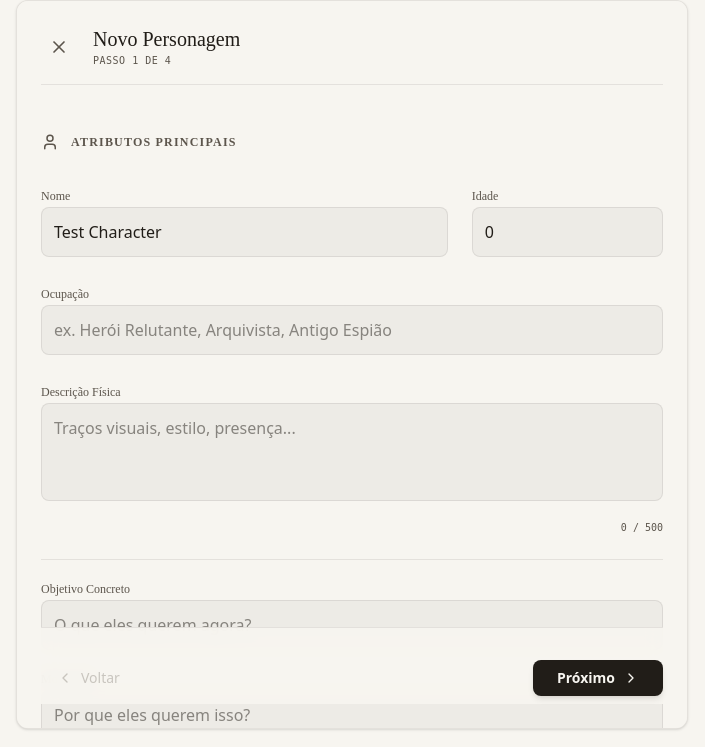
it: CharacterWizard › should navigate through 4 steps
expect the heading "Atributos Principais" is shown: met, box [71, 134, 237, 150]
# Go to Step 2
Click the button "Próximo": (598, 678) [533, 660, 663, 696]
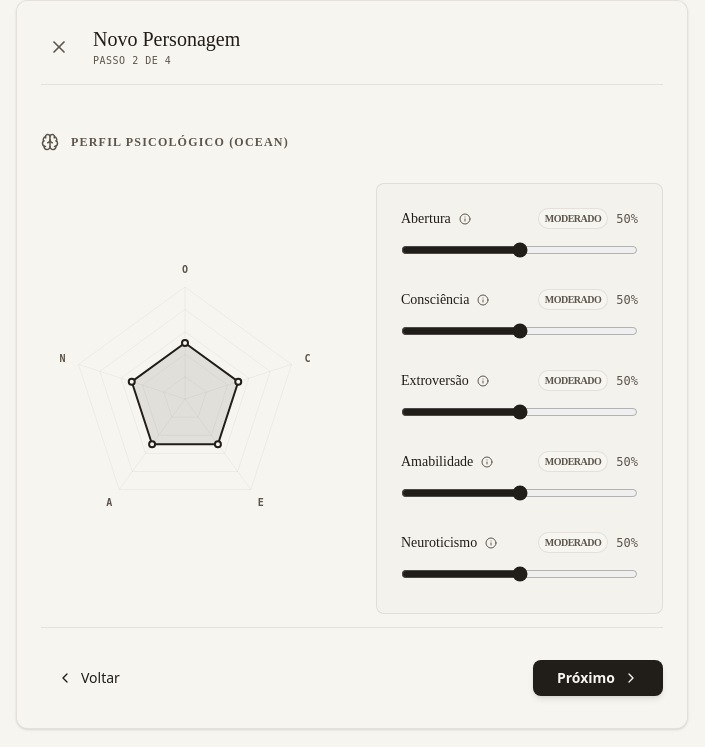
expect the heading "Perfil Psicológico (OCEAN)" is shown: met, box [71, 134, 289, 150]
# Go to Step 3
Click the button "Próximo": (598, 678) [533, 660, 663, 696]
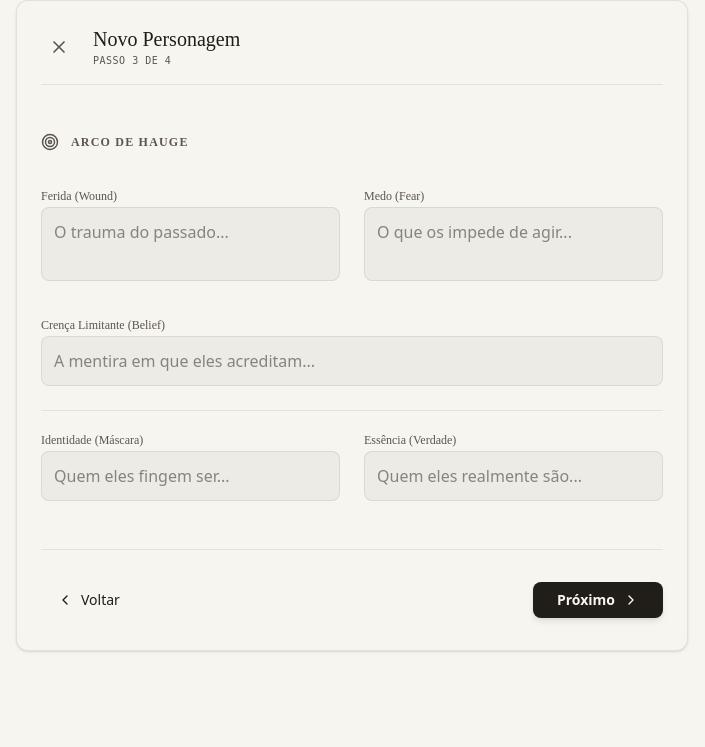
expect the heading "Arco de Hauge" is shown: met, box [71, 134, 189, 150]
# Go to Step 4
Click the button "Próximo": (598, 600) [533, 582, 663, 618]
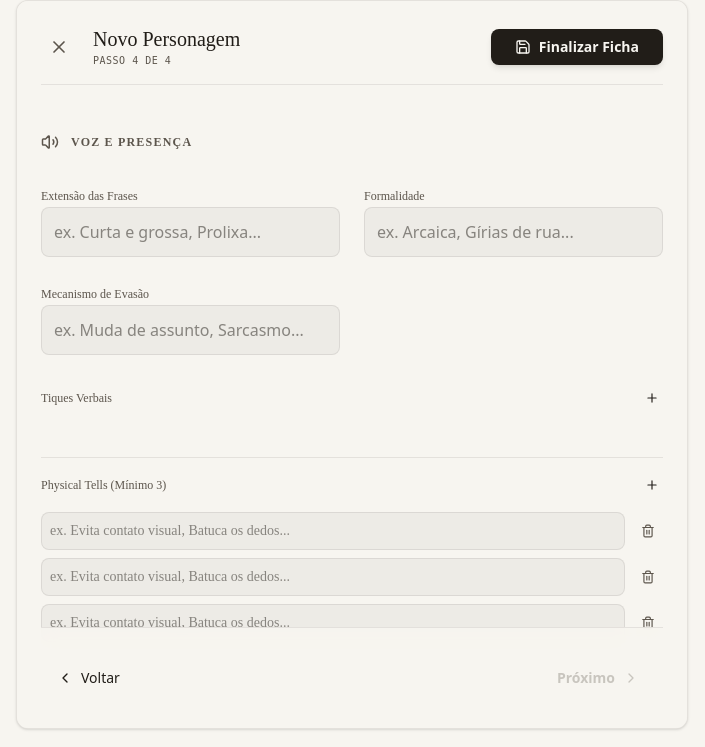
expect the heading "Voz e Presença" is shown: met, box [71, 134, 192, 150]
# Go back to Step 3
Click the button "Voltar": (88, 678) [41, 660, 136, 696]
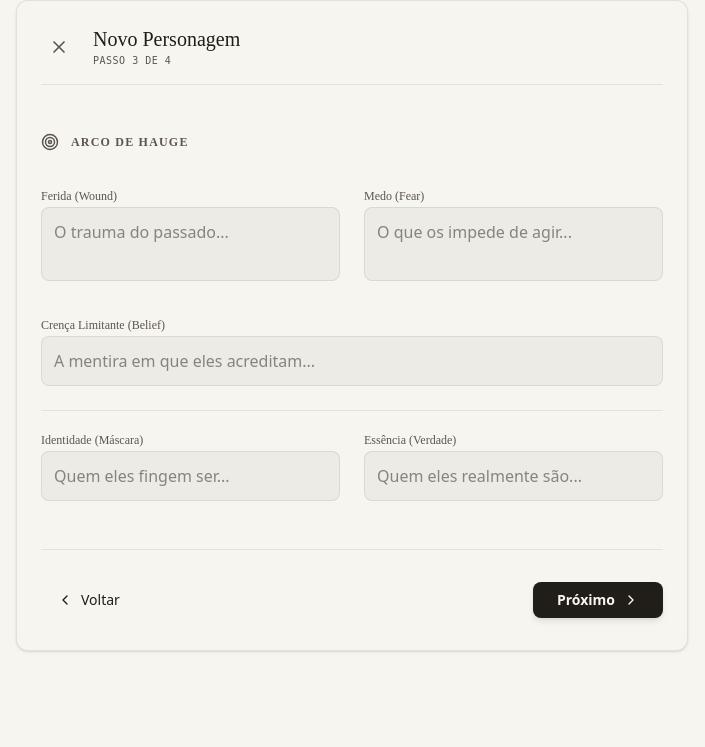
expect the heading "Arco de Hauge" is shown: met, box [71, 134, 189, 150]
